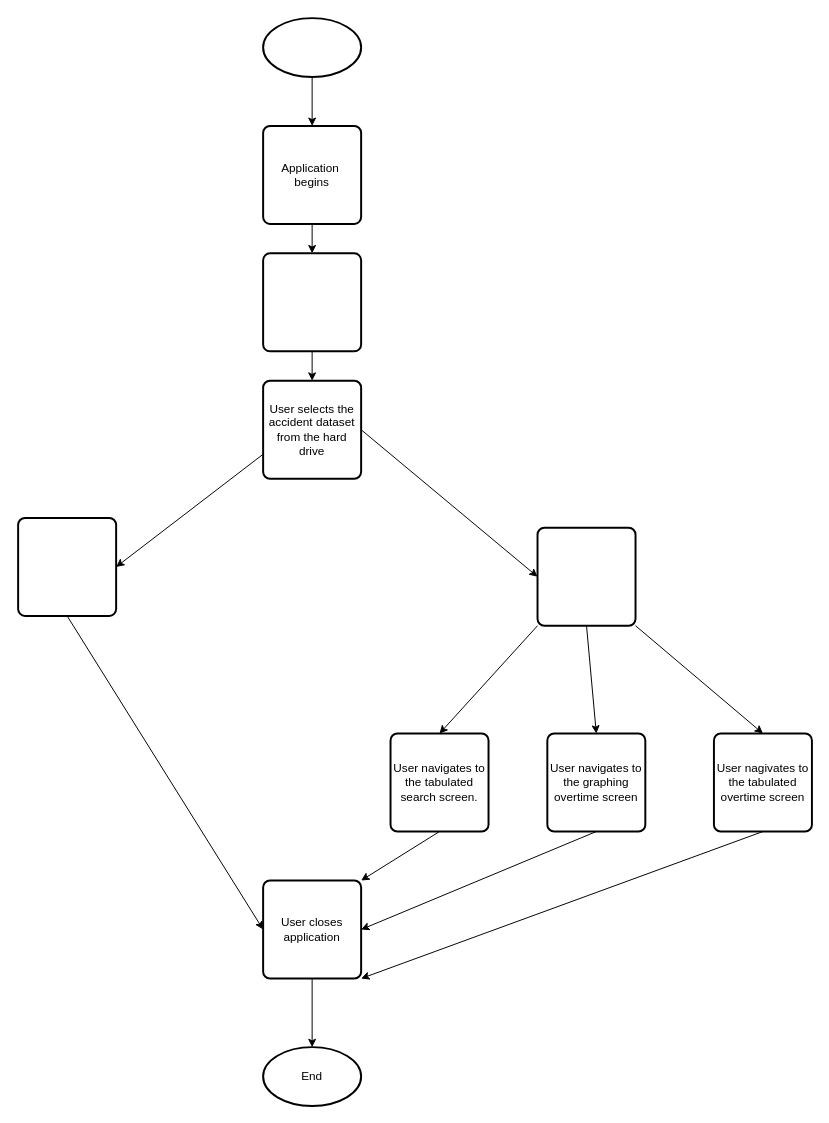
Image size: 829x1123. Some labels were removed from this diagram. Here are the shapes that lost their labels. From the top down, the centre of each, then its label:
the point at 312,47: Start
the point at 312,302: User clicks on the file button and begins a new project
the point at 67,566: User clicks on the create button to begin a new graph
the point at 586,576: Using the tool button the user can navigate to different screens of the program.
